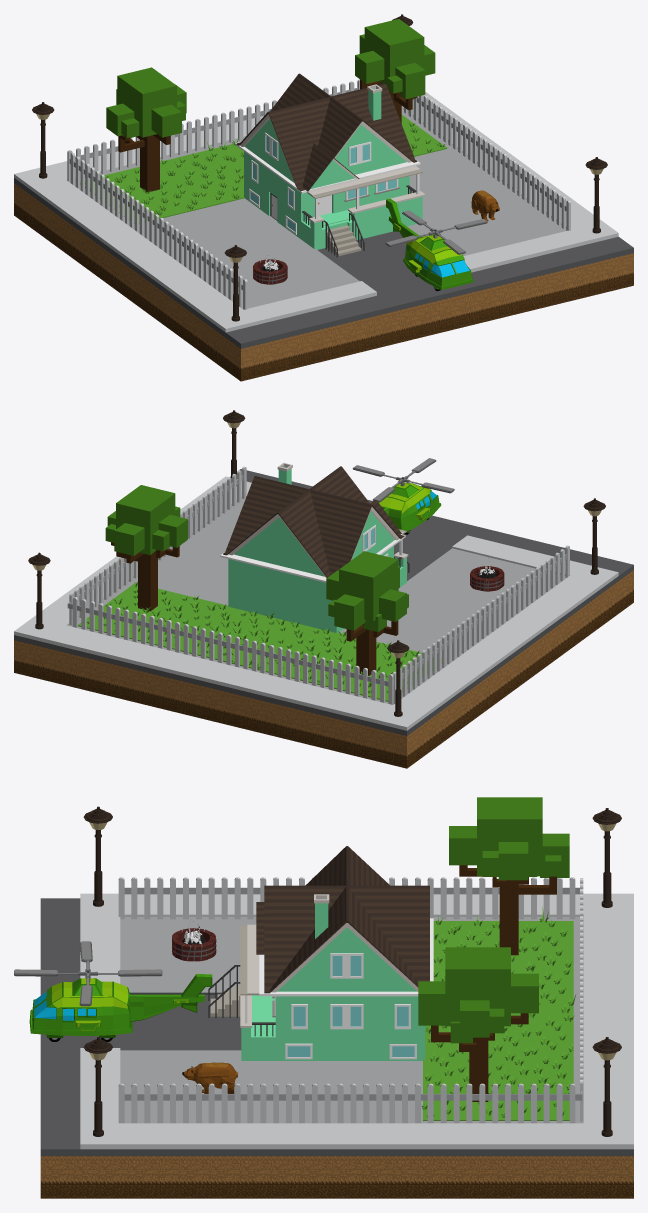
3 renders of one model, top to bottom at view 1: azimuth 30°, elevation 25°; view 2: azimuth 150°, elevation 25°; view 3: azimuth 270°, elevation 25°, orthographic. The views are drawn at different scales.
Parts seen in each view (by area): view 1: Cube.004, Cube.352, VEHICLES_HELICOPTER, OBJRANDOM_CAMPFIRE, ANIMAL_OSO; view 2: Cube.004, Cube.352, VEHICLES_HELICOPTER, OBJRANDOM_CAMPFIRE; view 3: Cube.004, Cube.352, VEHICLES_HELICOPTER, OBJRANDOM_CAMPFIRE, ANIMAL_OSO.
Boxes of the visible parts, x1=… form: Cube.004: x1=14, y1=14, x2=633, y2=381; Cube.352: x1=235, y1=73, x2=425, y2=257; VEHICLES_HELICOPTER: x1=385, y1=198, x2=487, y2=291; OBJRANDOM_CAMPFIRE: x1=253, y1=257, x2=287, y2=284; ANIMAL_OSO: x1=471, y1=190, x2=499, y2=221; Cube.004: x1=14, y1=410, x2=633, y2=768; Cube.352: x1=220, y1=462, x2=409, y2=632; VEHICLES_HELICOPTER: x1=352, y1=458, x2=454, y2=534; OBJRANDOM_CAMPFIRE: x1=470, y1=565, x2=504, y2=591; Cube.004: x1=40, y1=797, x2=633, y2=1198; Cube.352: x1=208, y1=846, x2=433, y2=1060; VEHICLES_HELICOPTER: x1=14, y1=941, x2=212, y2=1041; OBJRANDOM_CAMPFIRE: x1=172, y1=921, x2=216, y2=961; ANIMAL_OSO: x1=182, y1=1062, x2=237, y2=1093.
Size of the model in its own units: 4000 by 1604 by 4179.
35 materials, 3 textured.
